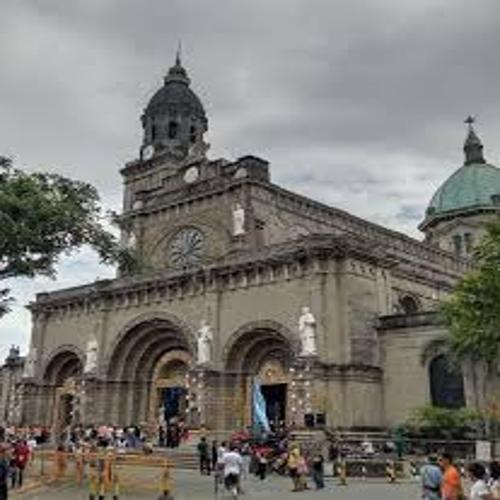Manila Cathedral Church: (9, 38, 500, 477)
